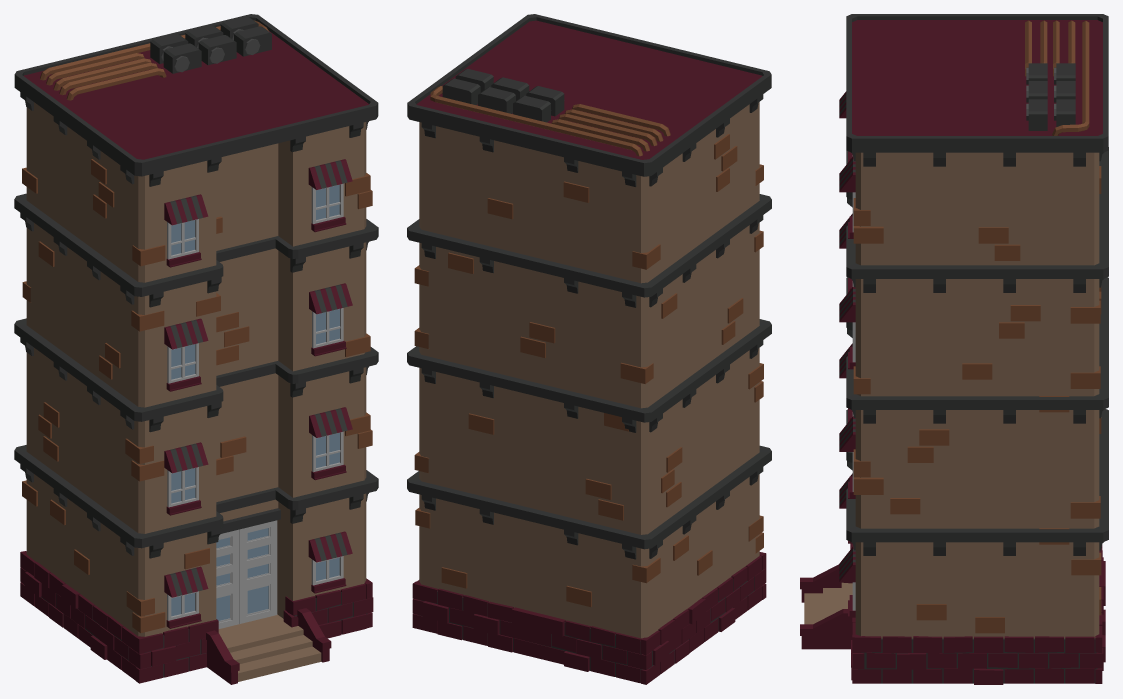
Rendered from TallBuilding.fbx.
3 views of the same model, side by side, from view 1: azimuth 30°, elevation 25°; view 2: azimuth 150°, elevation 25°; view 3: azimuth 270°, elevation 25° (orthographic). The views are drawn at different scales.
Visible parts, largest first — view 1: 4Story_Center_Mat; view 2: 4Story_Center_Mat; view 3: 4Story_Center_Mat.
Boxes of the visible parts, x1,y1,x2,y2 form: 4Story_Center_Mat: [14, 14, 378, 684]; 4Story_Center_Mat: [407, 14, 771, 684]; 4Story_Center_Mat: [800, 14, 1108, 684].
Bounding box in the file's own units: 242 × 509 × 253.
